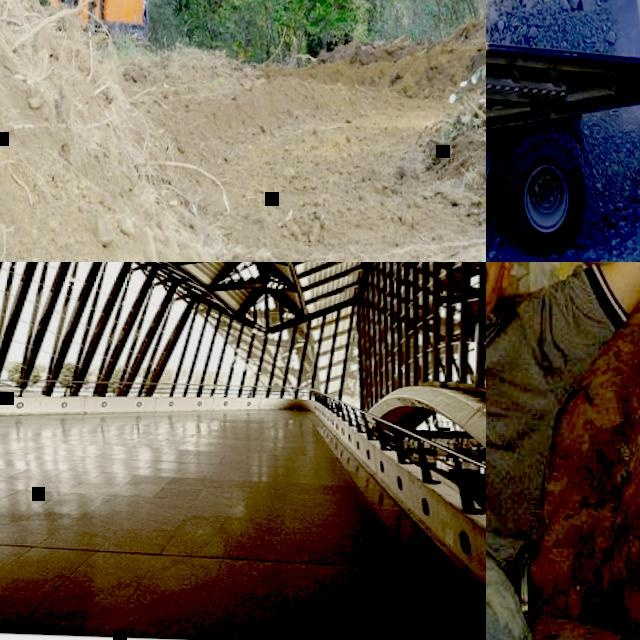NO-Safety Vest: (486, 286, 559, 552)
Person: (486, 262, 640, 640)
machinery: (486, 0, 640, 256)
